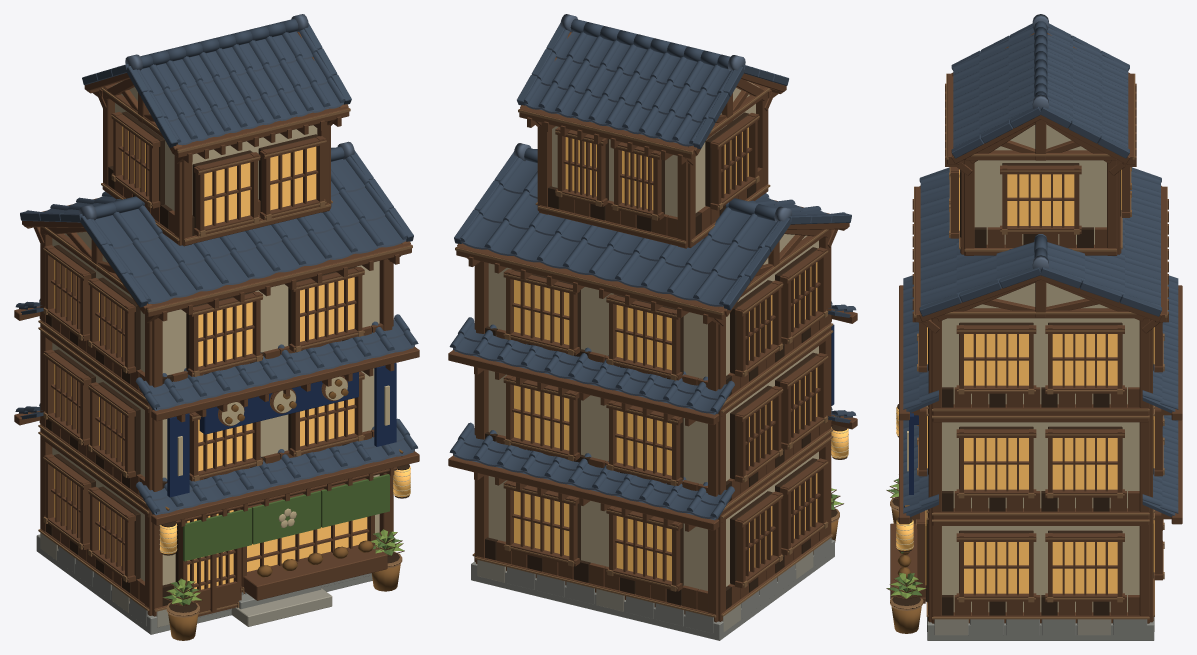
The picture shows the model from 3 angles, left to right: view 1: azimuth 30°, elevation 25°; view 2: azimuth 150°, elevation 25°; view 3: azimuth 270°, elevation 25°; orthographic projection.
Parts seen in each view (by area): view 1: compact_shop_3_geometry, compact_shop_3_geometry ceramic; view 2: compact_shop_3_geometry, compact_shop_3_geometry ceramic; view 3: compact_shop_3_geometry, compact_shop_3_geometry ceramic.
Part boxes in pixels (x1,y1,x2,y2): compact_shop_3_geometry: (14, 32, 419, 640); compact_shop_3_geometry ceramic: (15, 14, 418, 515); compact_shop_3_geometry: (448, 32, 857, 640); compact_shop_3_geometry ceramic: (449, 14, 856, 520); compact_shop_3_geometry: (886, 33, 1182, 640); compact_shop_3_geometry ceramic: (903, 14, 1178, 517).
Bounding box in the file's own units: 0.9542 × 1.76 × 0.9002.
